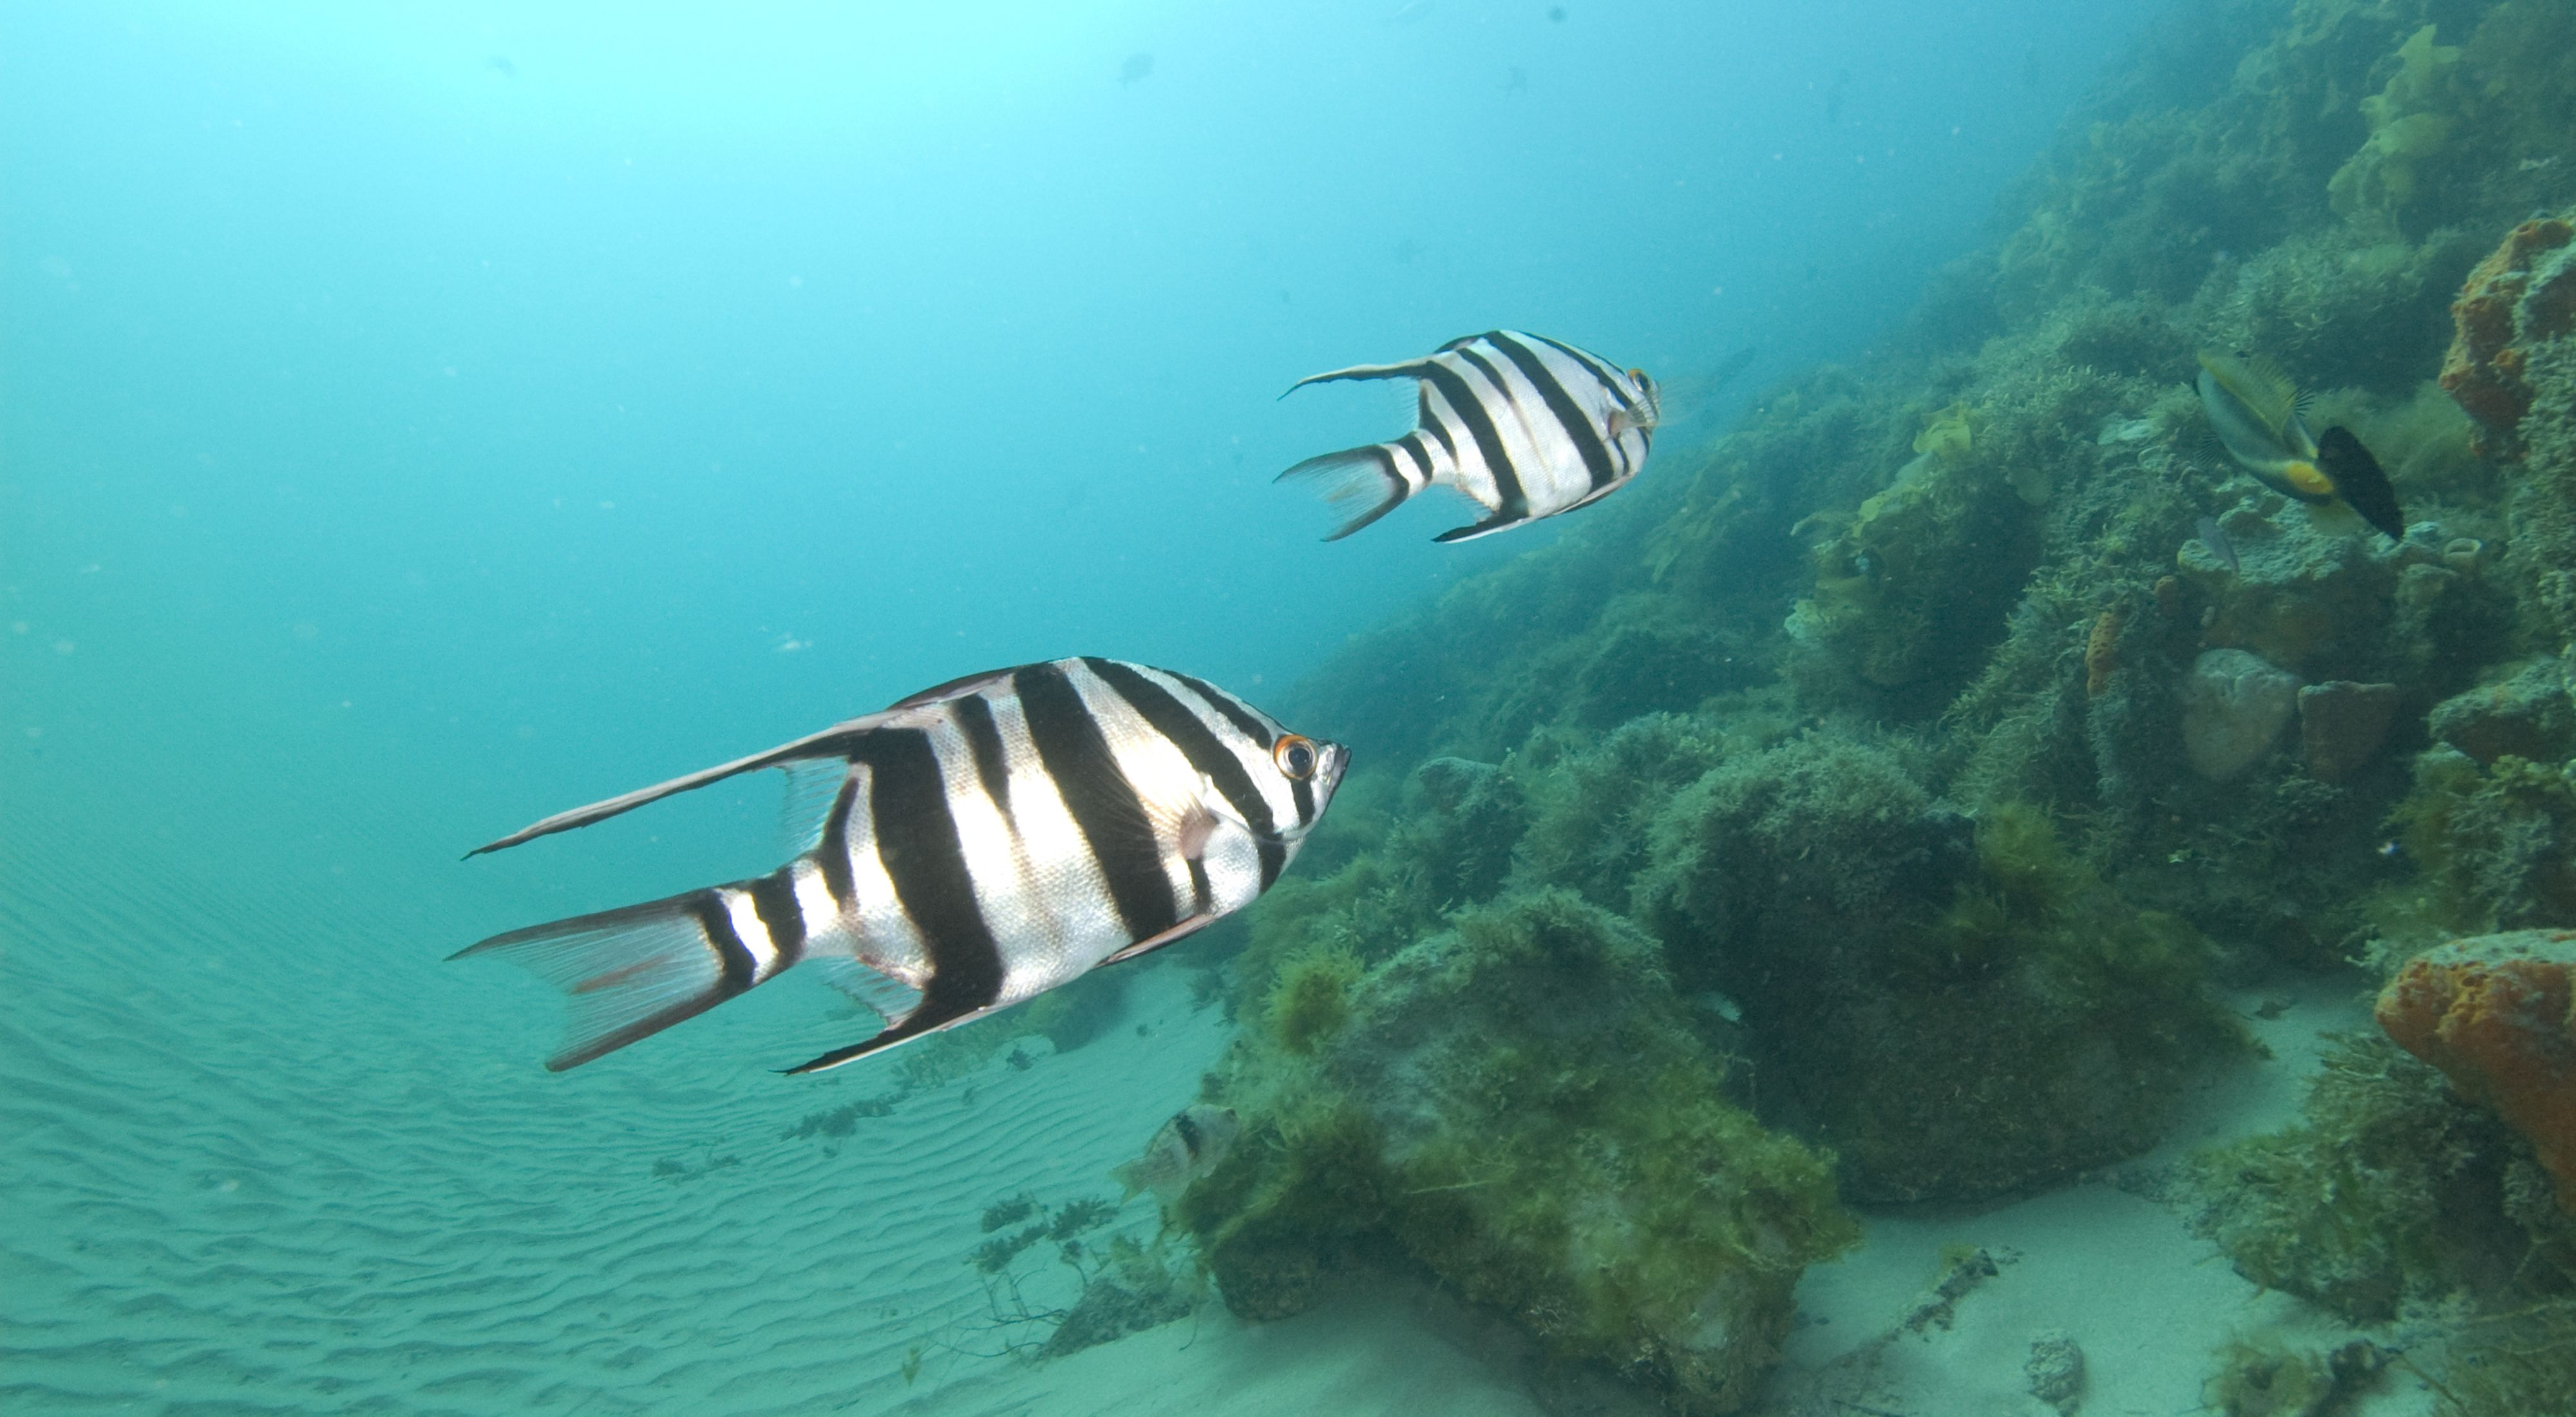fish: (455, 625, 1373, 1122), (1264, 314, 1678, 550)
